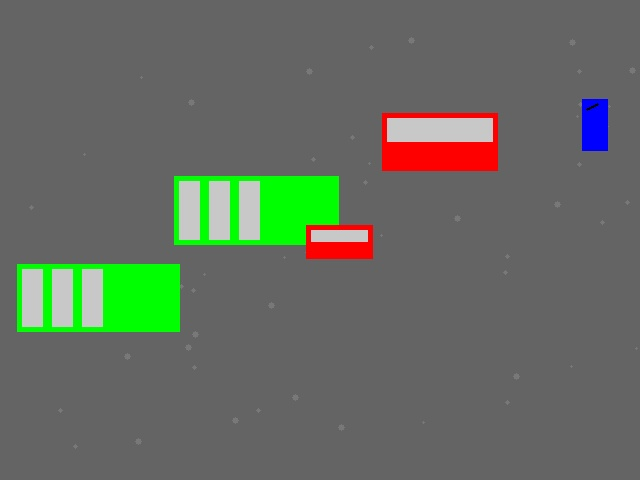bus: (174, 176, 338, 244), (17, 264, 179, 331)
car: (382, 113, 497, 170), (306, 225, 372, 258)
motorcycle: (582, 99, 607, 150)
